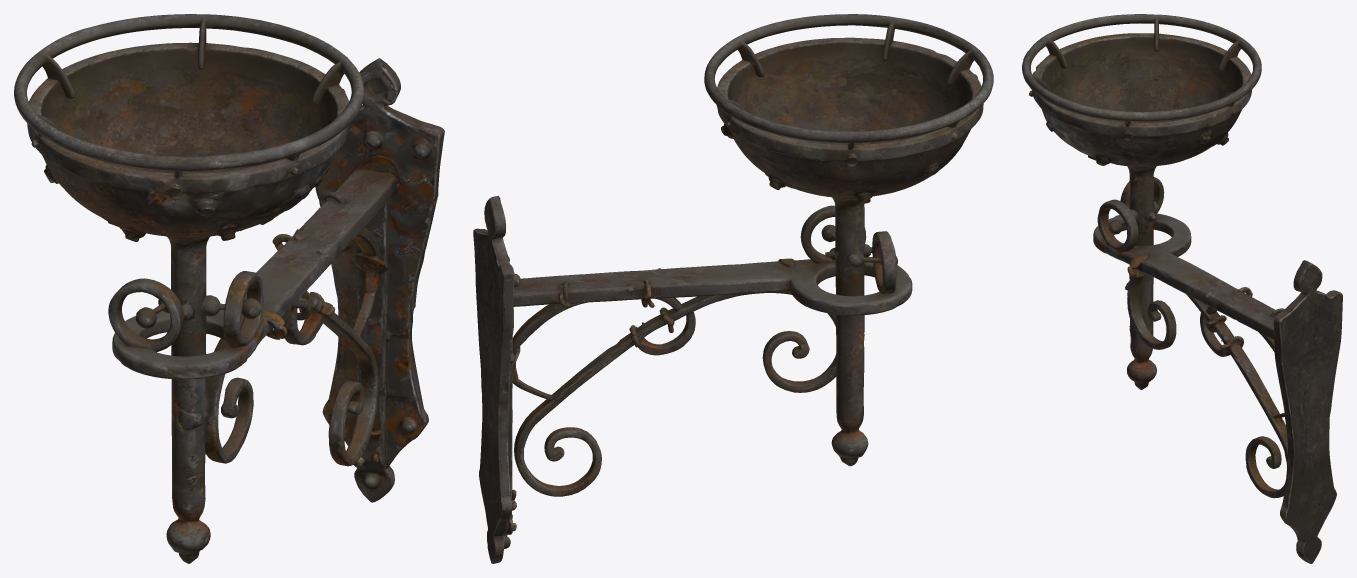
File: medieval wall torch 3d model.glb
3 renders of one model, left to right at view 1: azimuth 30°, elevation 25°; view 2: azimuth 150°, elevation 25°; view 3: azimuth 270°, elevation 25°, orthographic. The views are drawn at different scales.
Parts seen in each view (by area): view 1: tripo_node_157f4fdc-1686-43cd-b3e3-412053b49d9c; view 2: tripo_node_157f4fdc-1686-43cd-b3e3-412053b49d9c; view 3: tripo_node_157f4fdc-1686-43cd-b3e3-412053b49d9c.
Part boxes in pixels (left/top/right/bottom): tripo_node_157f4fdc-1686-43cd-b3e3-412053b49d9c: left=14, top=14, right=444, bottom=563; tripo_node_157f4fdc-1686-43cd-b3e3-412053b49d9c: left=473, top=14, right=993, bottom=563; tripo_node_157f4fdc-1686-43cd-b3e3-412053b49d9c: left=1022, top=14, right=1342, bottom=563.
Bounding box in the file's own units: 0.8975 × 0.9811 × 0.7175.
1 material, 1 textured.
